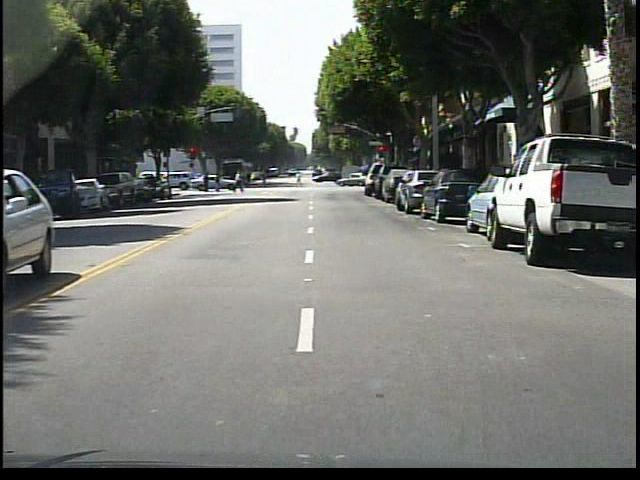person: (232, 166, 252, 195)
